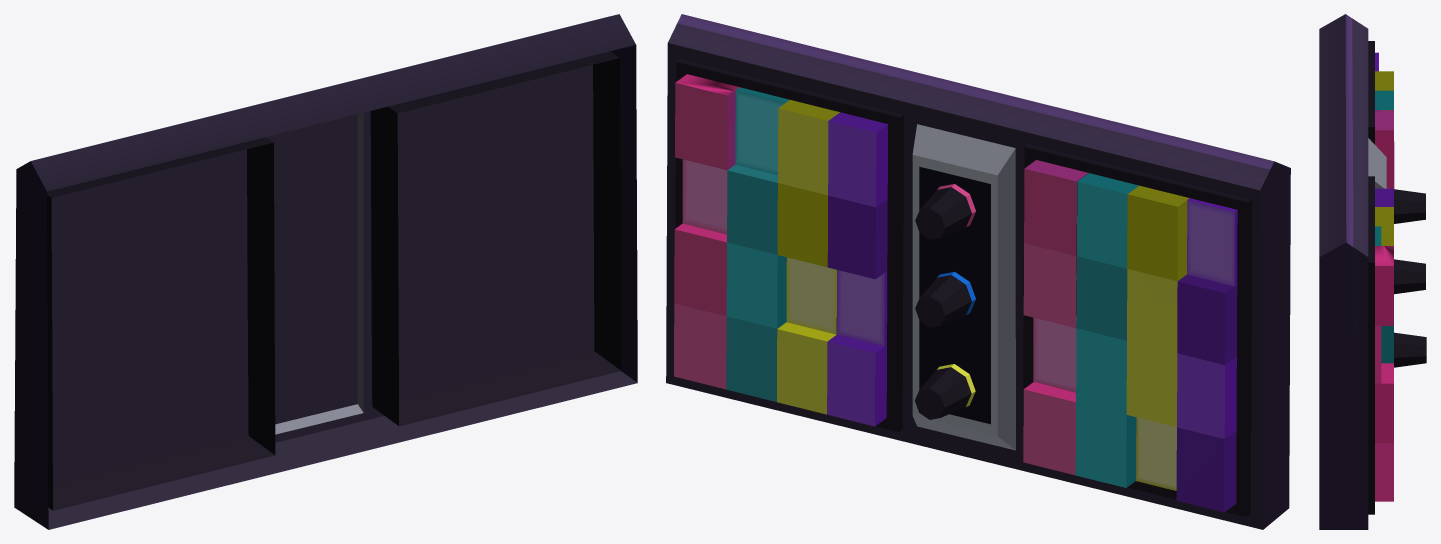
Rendered from djCadenceMixer.fbx.
3 renders of one model, left to right at view 1: azimuth 30°, elevation 25°; view 2: azimuth 150°, elevation 25°; view 3: azimuth 270°, elevation 25°, orthographic. The views are drawn at different scales.
Parts seen in each view (by area): view 1: djCadenceMixer; view 2: djCadenceMixer; view 3: djCadenceMixer.
Part boxes in pixels (x1,y1,x2,y2): djCadenceMixer: (14,14,637,529); djCadenceMixer: (666,14,1290,529); djCadenceMixer: (1319,14,1426,529).
Bounding box in the file's own units: 56.07 × 32.54 × 10.92.
